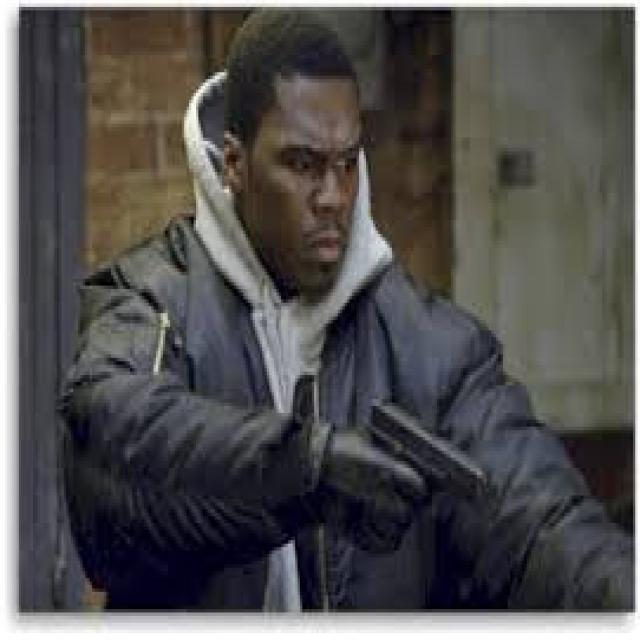weapons: (332, 387, 498, 552)
